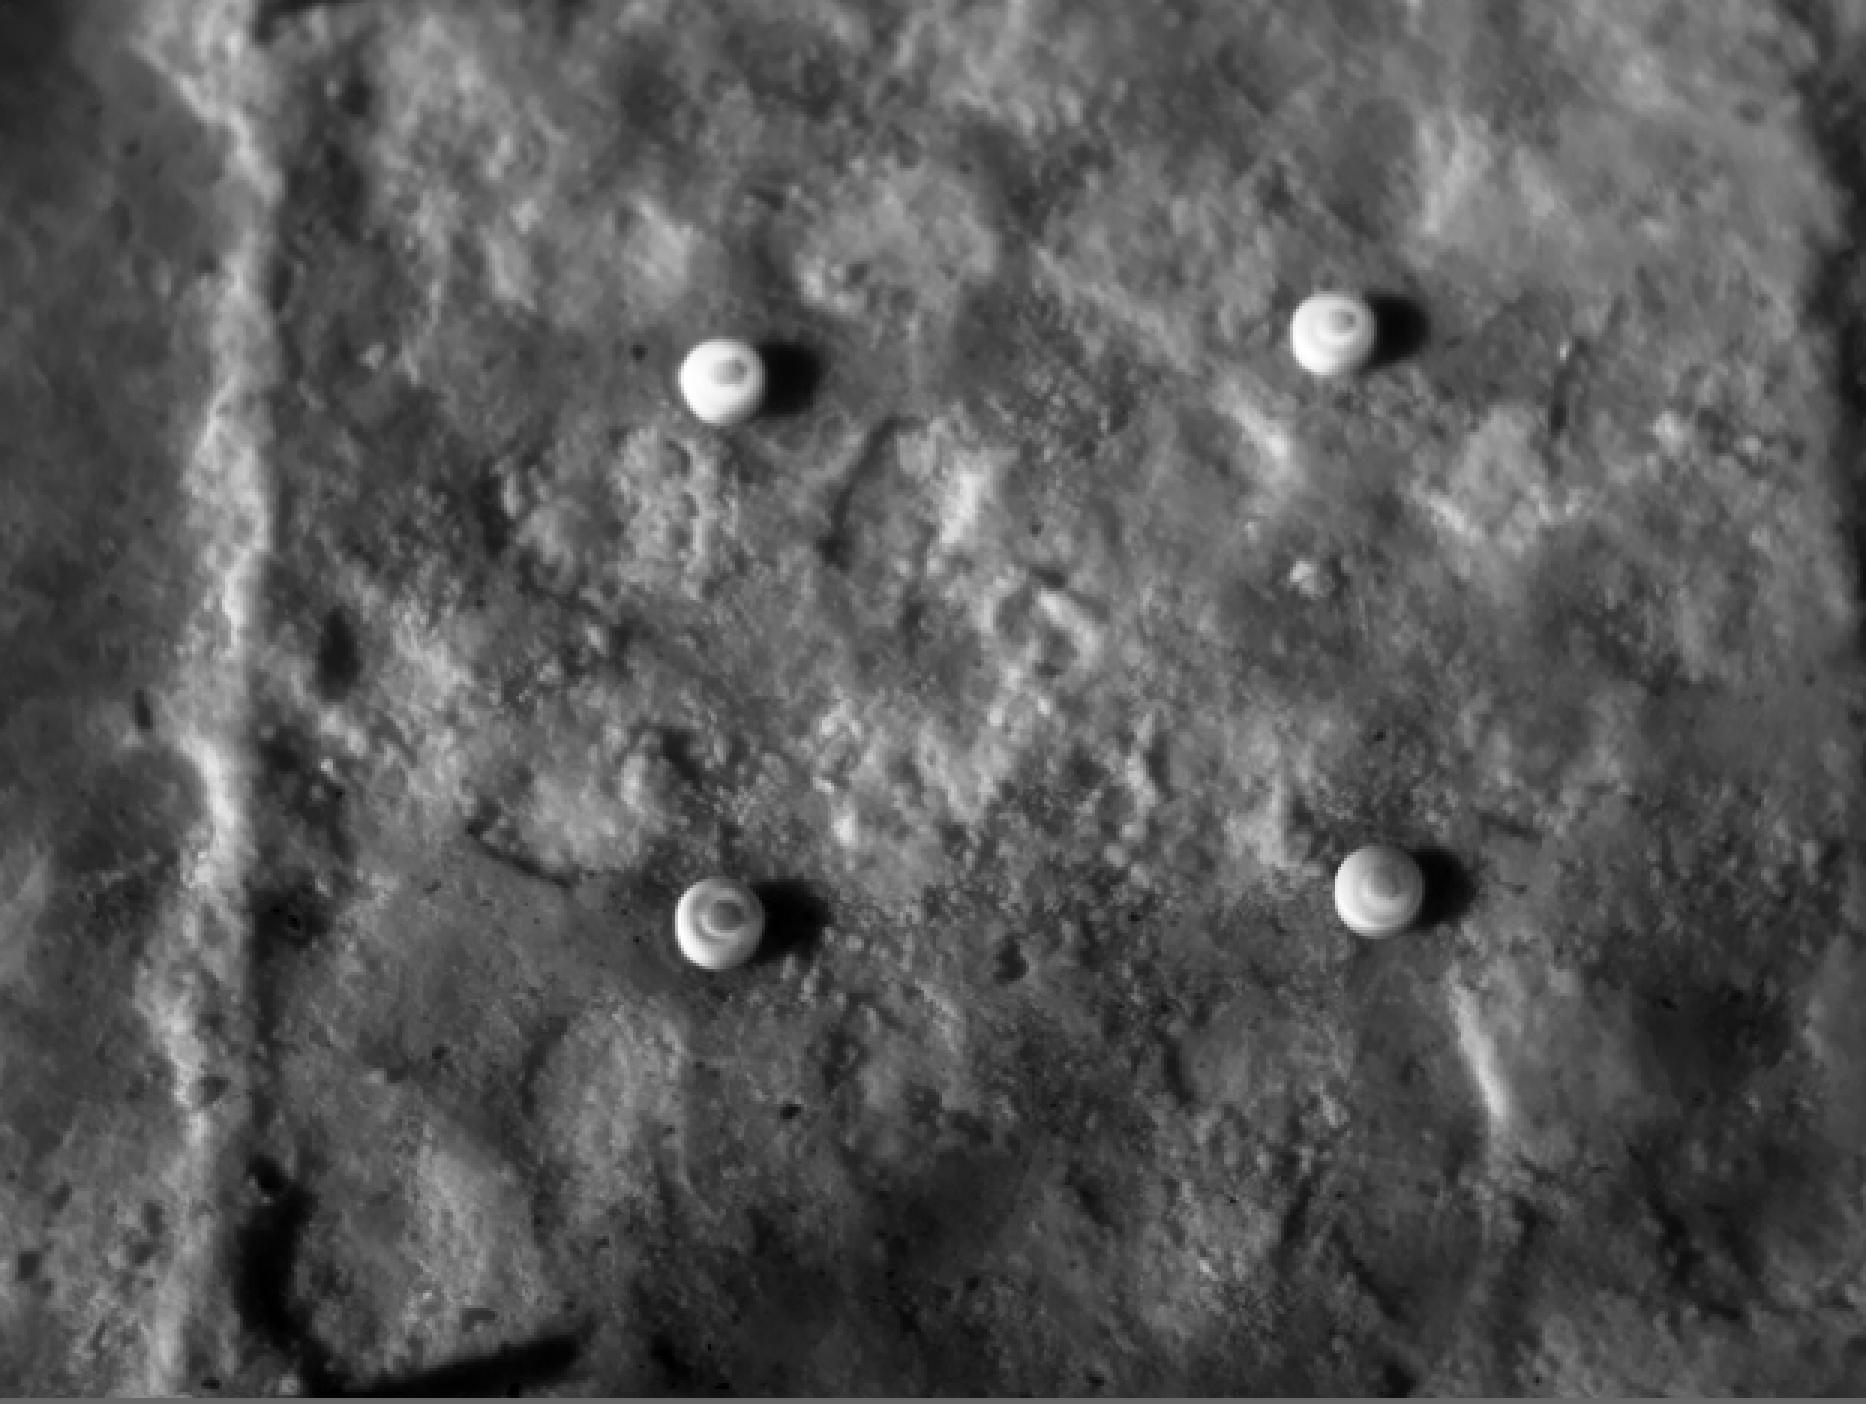mines-gjV8: (1328, 845, 1432, 938), (673, 875, 766, 973), (1292, 295, 1387, 376), (687, 338, 766, 428)
